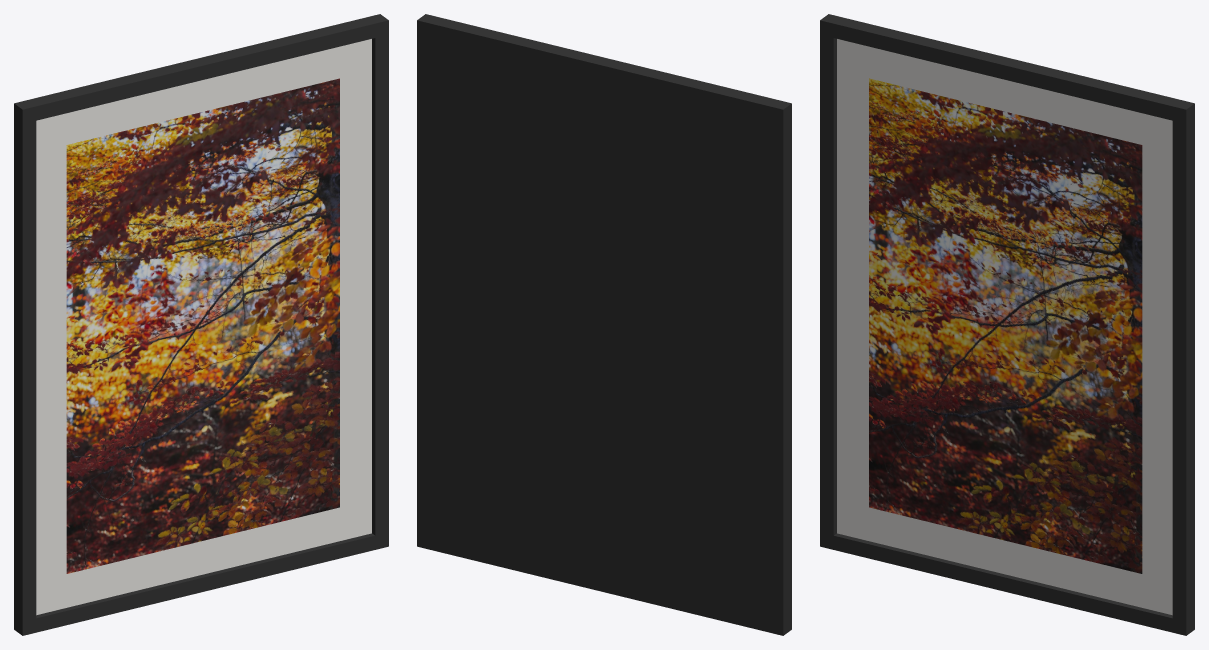
File: hosteld-60.gltf
The picture shows the model from 3 angles, left to right: view 1: azimuth 30°, elevation 25°; view 2: azimuth 150°, elevation 25°; view 3: azimuth 330°, elevation 25°; orthographic projection.
Visible parts, largest first — view 1: tavla; view 2: tavla; view 3: tavla.
Boxes of the visible parts, box(x1,y1,x2,y2) form: tavla: box(14, 14, 388, 635); tavla: box(417, 14, 791, 635); tavla: box(820, 14, 1194, 635).
Size of the model in its own units: 0.536 by 0.736 by 0.022.
3 materials, 1 textured.
